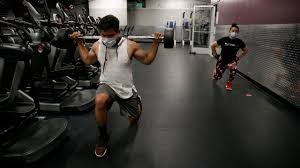Good: (67, 14, 249, 158)
